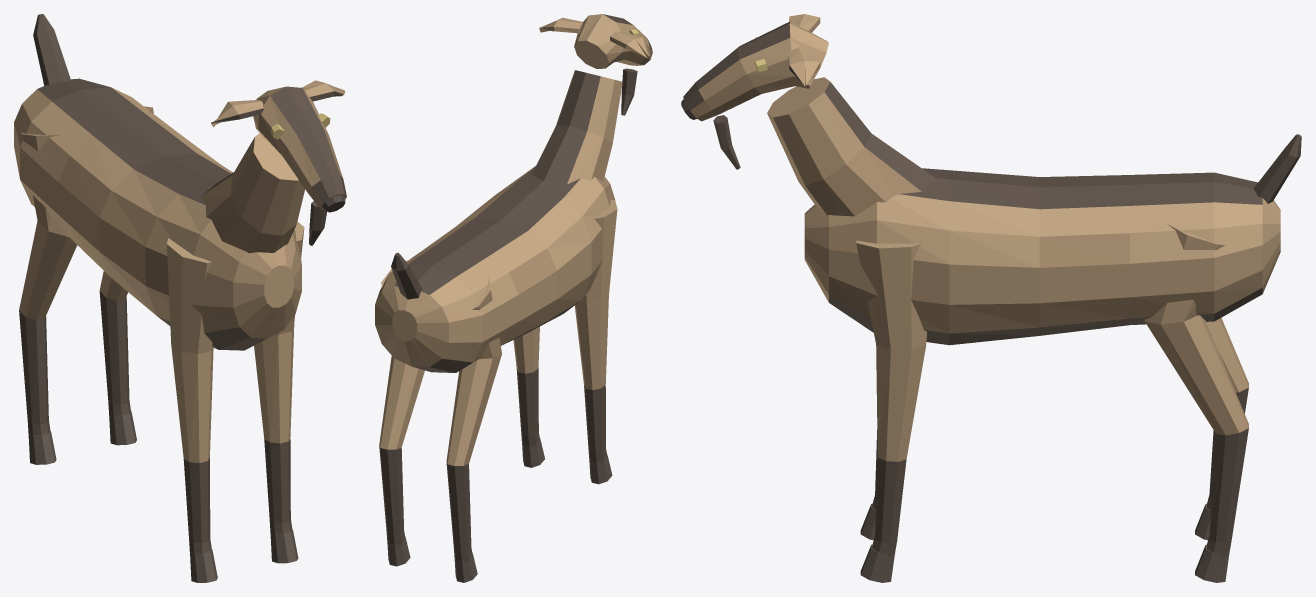
File: goat_female.glb
3 renders of one model, left to right at view 1: azimuth 30°, elevation 25°; view 2: azimuth 150°, elevation 25°; view 3: azimuth 270°, elevation 25°, orthographic. The views are drawn at different scales.
Visible parts, largest first — view 1: Body, Leg.FR, Head.Neck, Leg.BR, Leg.FL, Head.Skull, Leg.BL, Body.Tail, Head.Ear#2, Leg.FL.Hoof, Leg.BL.Hoof, Leg.BR.Hoof (+3 smaller); view 2: Body, Head.Neck, Leg.BR, Leg.FR, Leg.BL, Head.Skull, Leg.FL, Body.Tail, Head.Ear#2, Head.Beard, Head.Ear, Leg.FL.Hoof (+3 smaller); view 3: Body, Head.Neck, Leg.FL, Leg.BL, Head.Skull, Leg.BR, Body.Tail, Head.Ear, Leg.FL.Hoof, Leg.BL.Hoof.
Part boxes in pixels (x1,y1,x2,y2): Body: [14, 78, 301, 350]; Leg.FR: [167, 238, 213, 553]; Head.Neck: [201, 133, 304, 253]; Leg.BR: [19, 133, 77, 435]; Leg.FL: [254, 221, 304, 533]; Head.Skull: [253, 86, 346, 209]; Leg.BL: [99, 106, 153, 415]; Body.Tail: [33, 14, 70, 85]; Head.Ear#2: [211, 100, 264, 127]; Leg.FL.Hoof: [270, 529, 298, 563]; Leg.BL.Hoof: [109, 411, 136, 445]; Leg.BR.Hoof: [28, 431, 56, 464]; Body: [375, 166, 615, 372]; Head.Neck: [531, 70, 622, 184]; Leg.BR: [446, 277, 501, 561]; Leg.FR: [574, 199, 617, 463]; Leg.BL: [379, 258, 424, 545]; Head.Skull: [574, 14, 652, 68]; Leg.FL: [513, 326, 539, 446]; Body.Tail: [391, 252, 422, 299]; Head.Ear#2: [610, 31, 651, 58]; Head.Beard: [621, 68, 637, 115]; Head.Ear: [539, 17, 583, 33]; Leg.FL.Hoof: [522, 437, 544, 467]; Body: [804, 168, 1280, 345]; Head.Neck: [767, 77, 934, 216]; Leg.FL: [856, 240, 927, 556]; Leg.BL: [1144, 224, 1248, 556]; Head.Skull: [683, 21, 828, 121]; Leg.BR: [1206, 317, 1248, 509]; Body.Tail: [1253, 134, 1301, 203]; Head.Ear: [788, 47, 820, 88]; Leg.FL.Hoof: [860, 544, 894, 582]; Leg.BL.Hoof: [1195, 544, 1229, 582].
Size of the model in its own units: 0.2648 by 0.9808 by 1.03.
